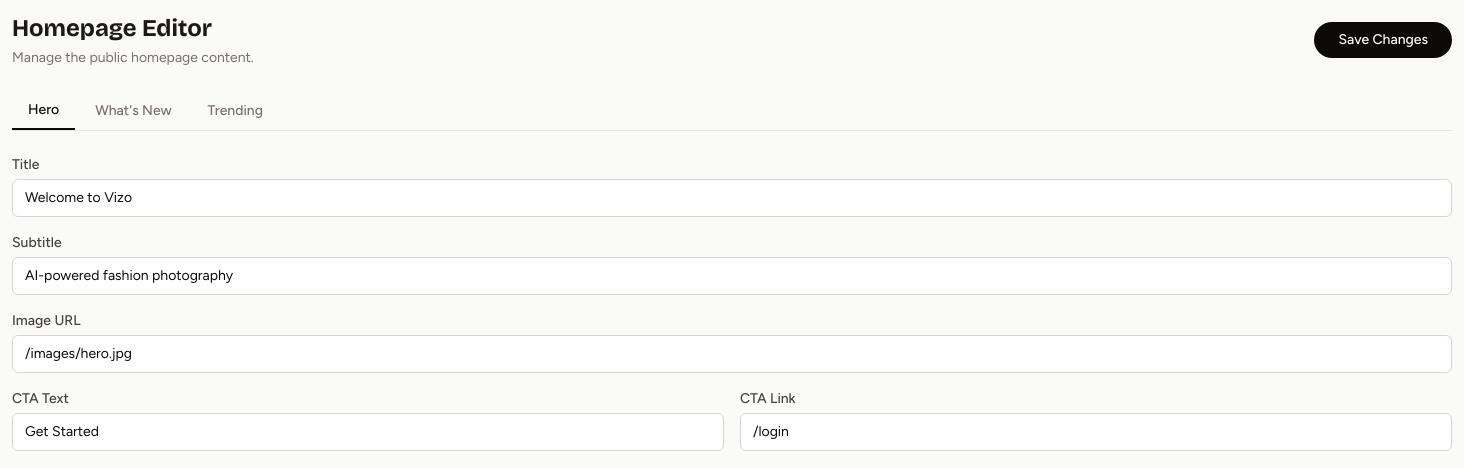
Test: HomepageEditor › switches to Trending tab
Click the button "Trending": {"x": 235, "y": 111} [192,92,279,130]
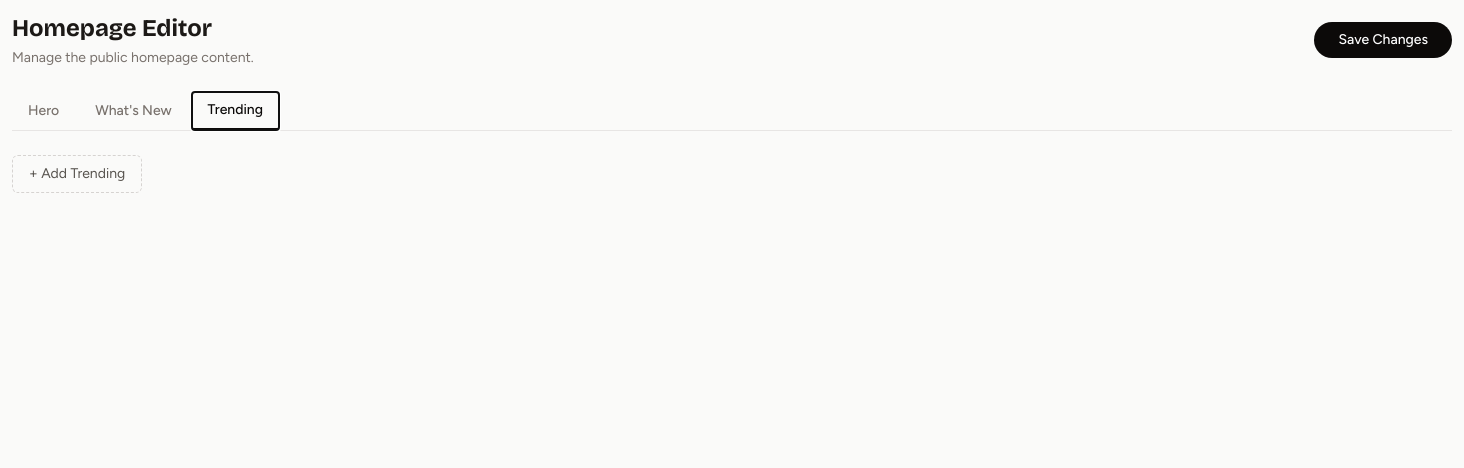
Result: the button "+ Add Trending" is shown at [12,155,142,193]
